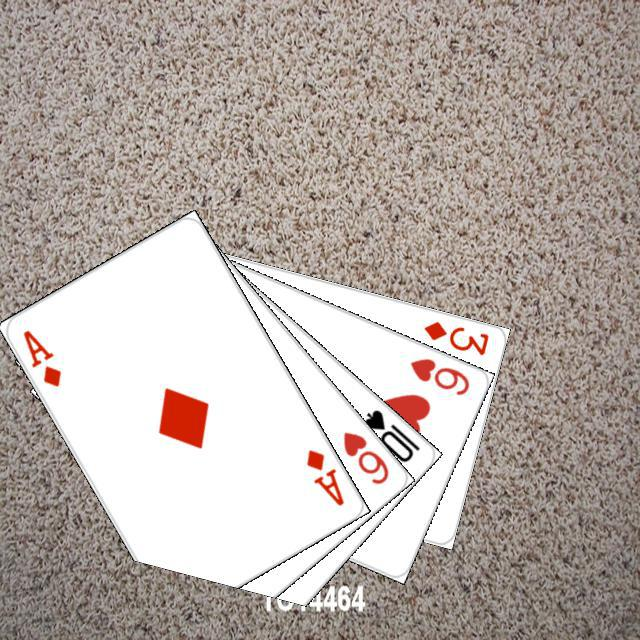10s: (359, 404, 422, 464)
3d: (419, 316, 491, 358)
6h: (338, 426, 391, 486), (405, 353, 471, 398)
Ad: (17, 325, 63, 389), (301, 444, 346, 508)
